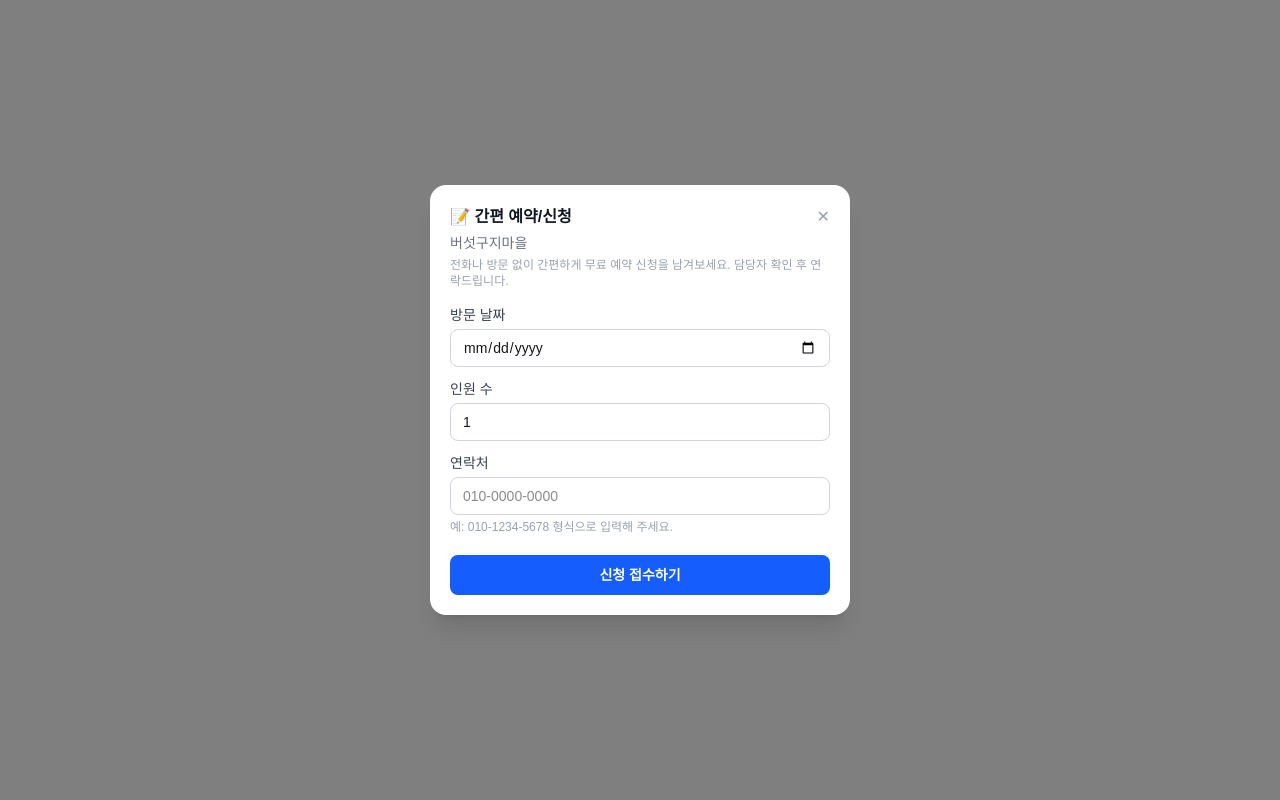
ReservationRequestModal › 인원 수를 비워두면 구체적인 안내 메시지를 보여준다
The width and height of the screenshot is (1280, 800).
Type "2099-01-01" into the date field labelled "방문 날짜" at (640, 348), box x1=450 y1=329 x2=830 y2=367
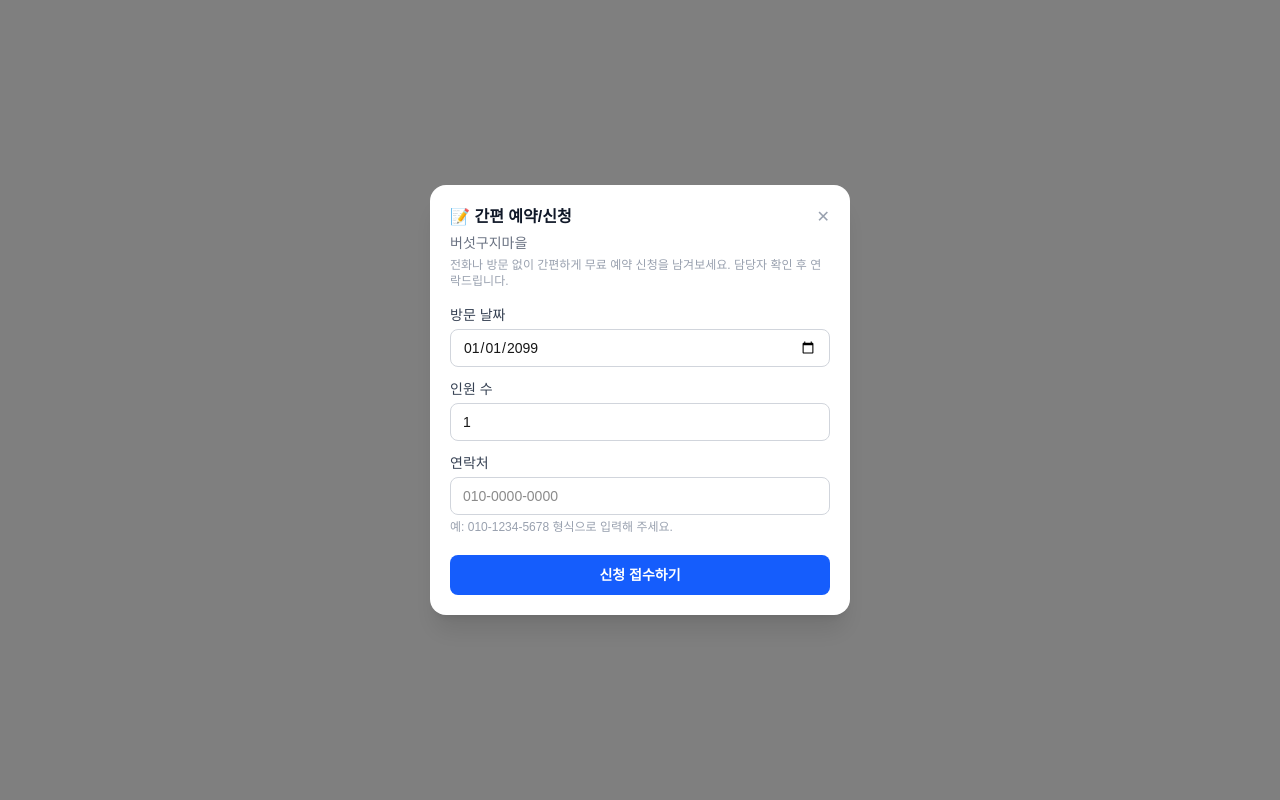
Clear the number field labelled "인원 수" at (640, 422), box x1=450 y1=403 x2=830 y2=441
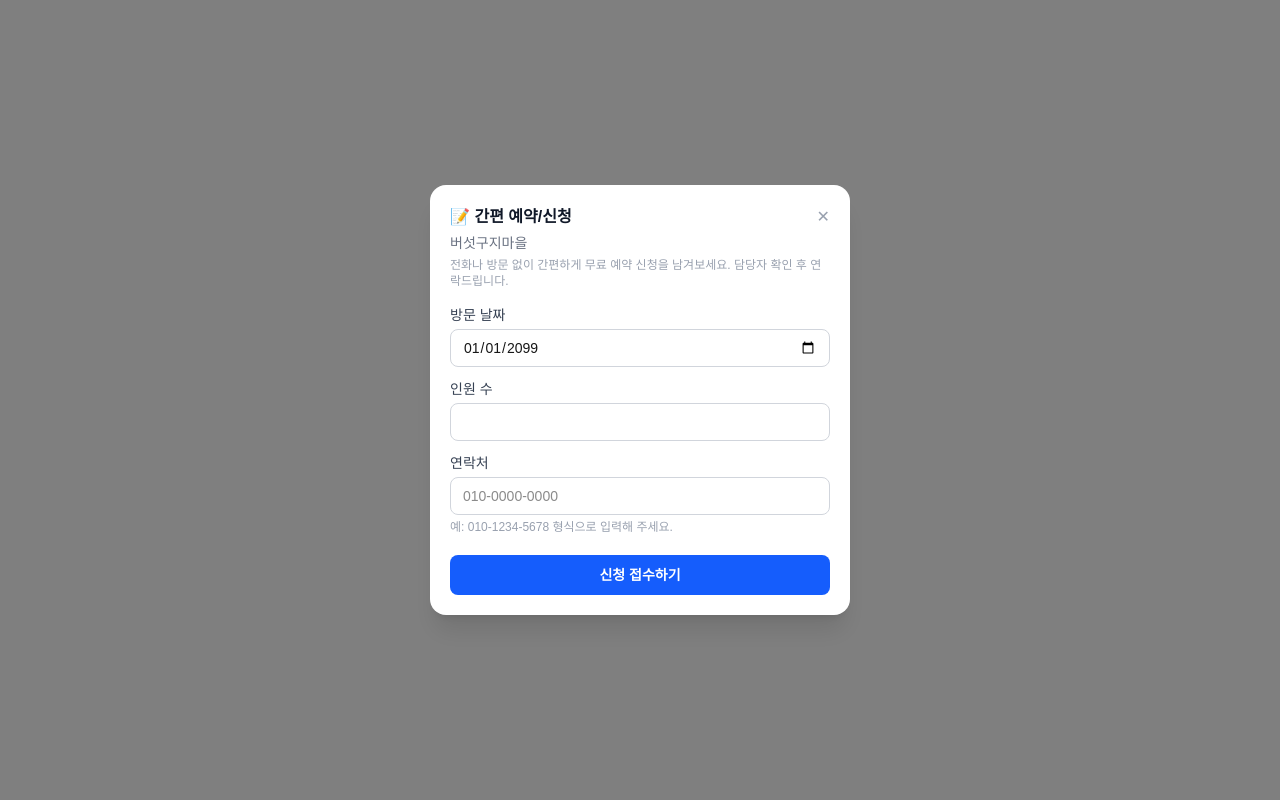
Type "010-1234-5678" into the field labelled "연락처" at (640, 496), box x1=450 y1=477 x2=830 y2=515
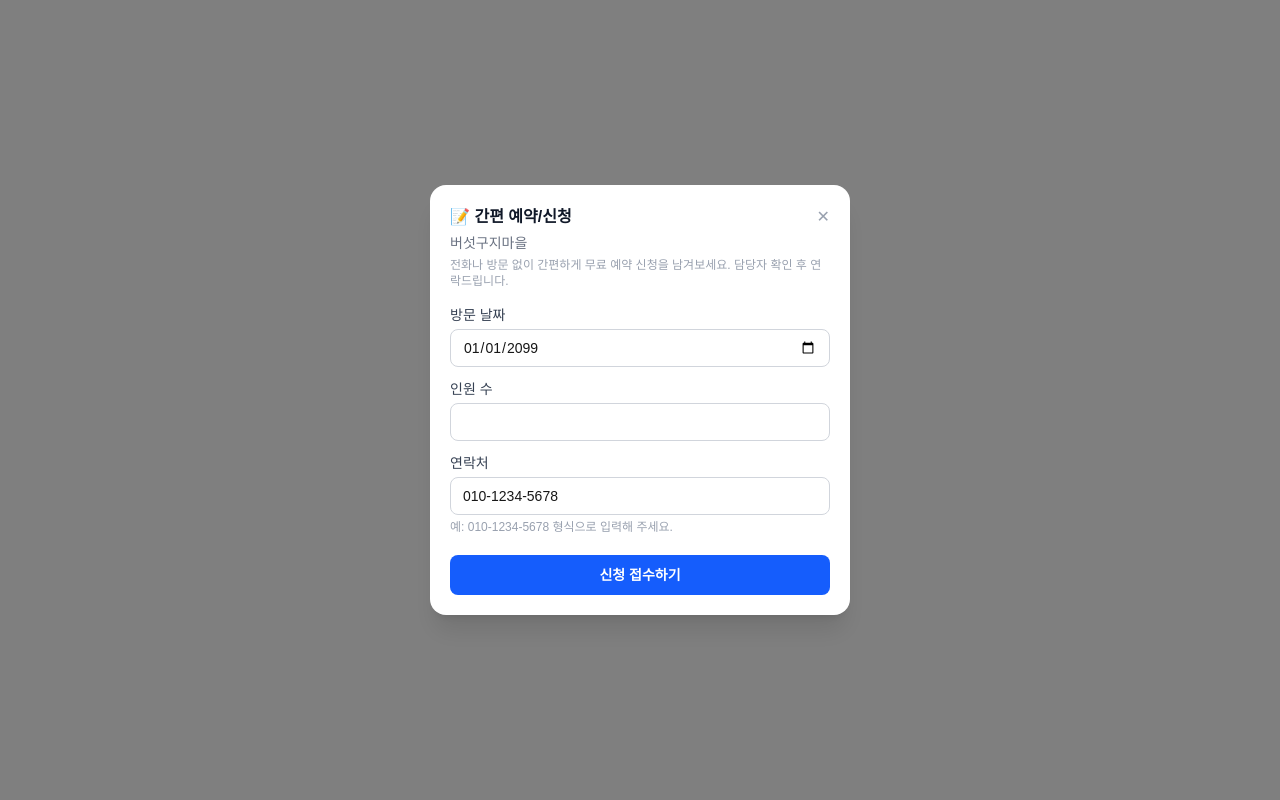
Submit the text "신청 접수하기", box x1=450 y1=305 x2=830 y2=595
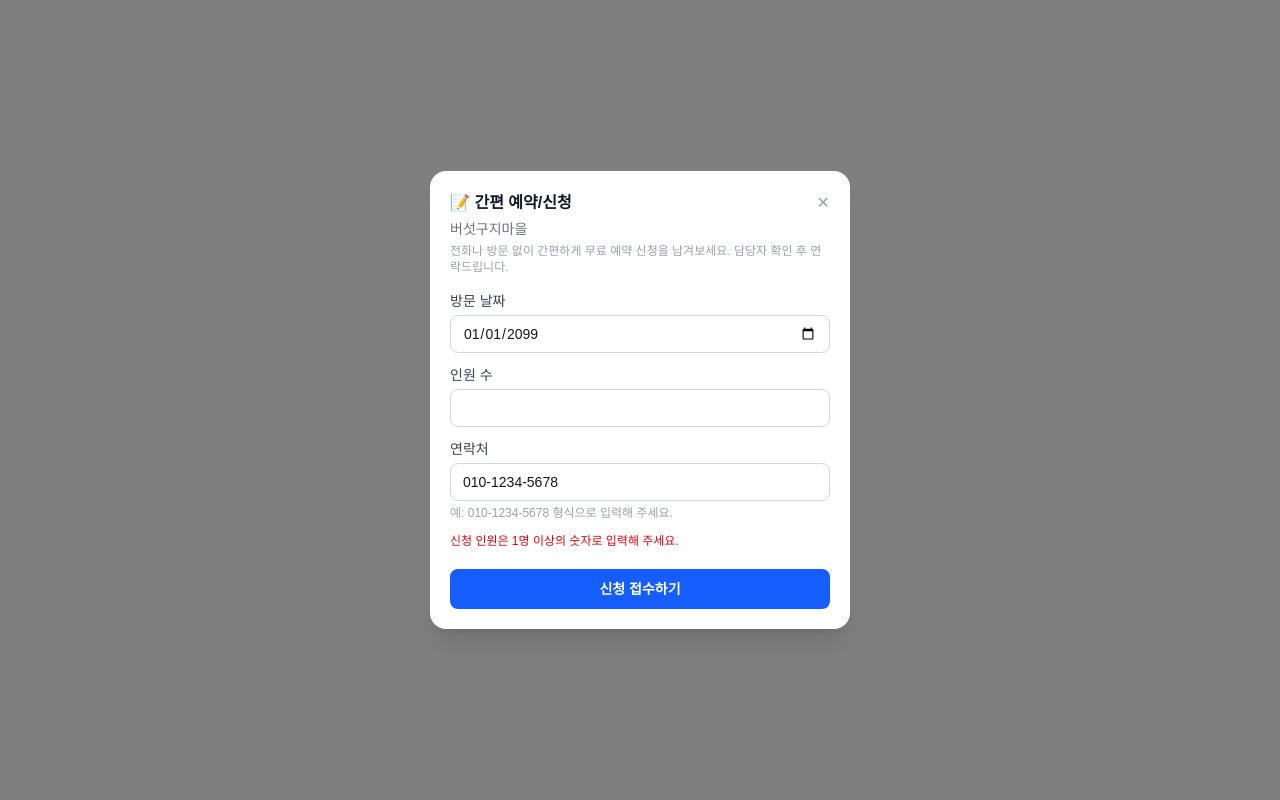
Expected: the text "신청 인원은 1명 이상의 숫자로 입력해 주세요." is shown, x1=450 y1=534 x2=679 y2=548
